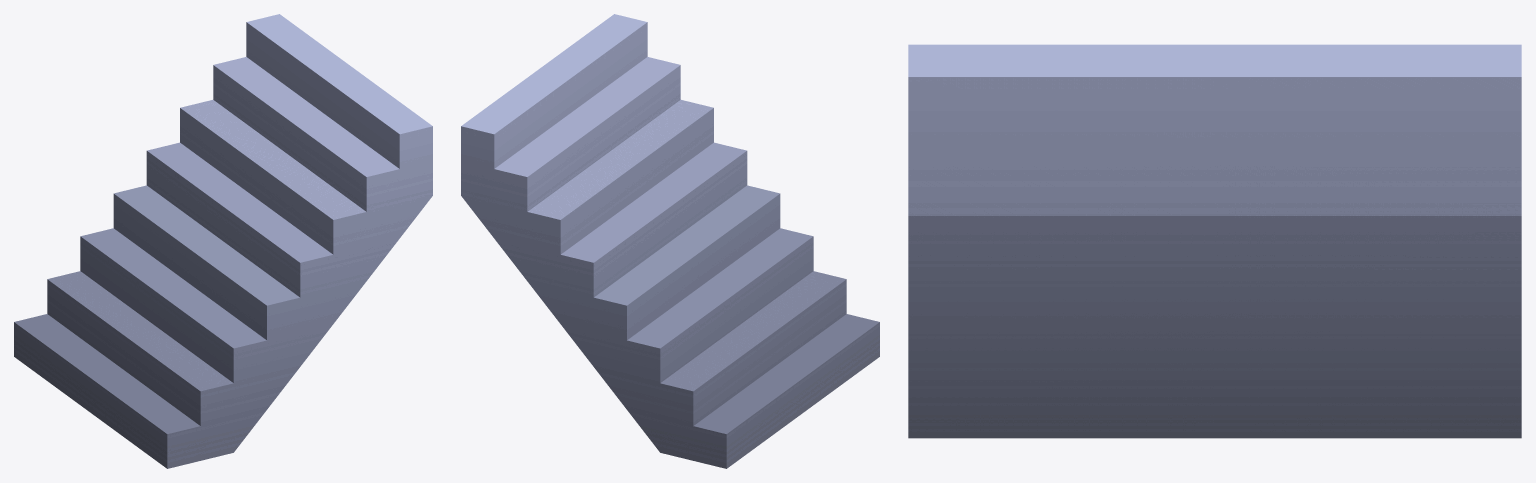
The model's file is stairs-diagonal-small.glb.
The picture shows the model from 3 angles, left to right: view 1: azimuth 30°, elevation 25°; view 2: azimuth 150°, elevation 25°; view 3: azimuth 270°, elevation 25°; orthographic projection. The views are drawn at different scales.
Visible parts, largest first — view 1: stairs-diagonal-small; view 2: stairs-diagonal-small; view 3: stairs-diagonal-small.
Part boxes in pixels (left/top/right/bottom): stairs-diagonal-small: left=14, top=14, right=432, bottom=468; stairs-diagonal-small: left=461, top=14, right=879, bottom=468; stairs-diagonal-small: left=908, top=44, right=1521, bottom=438.
Bounding box in the file's own units: 1 × 1 × 1.
1 material, 1 textured.
